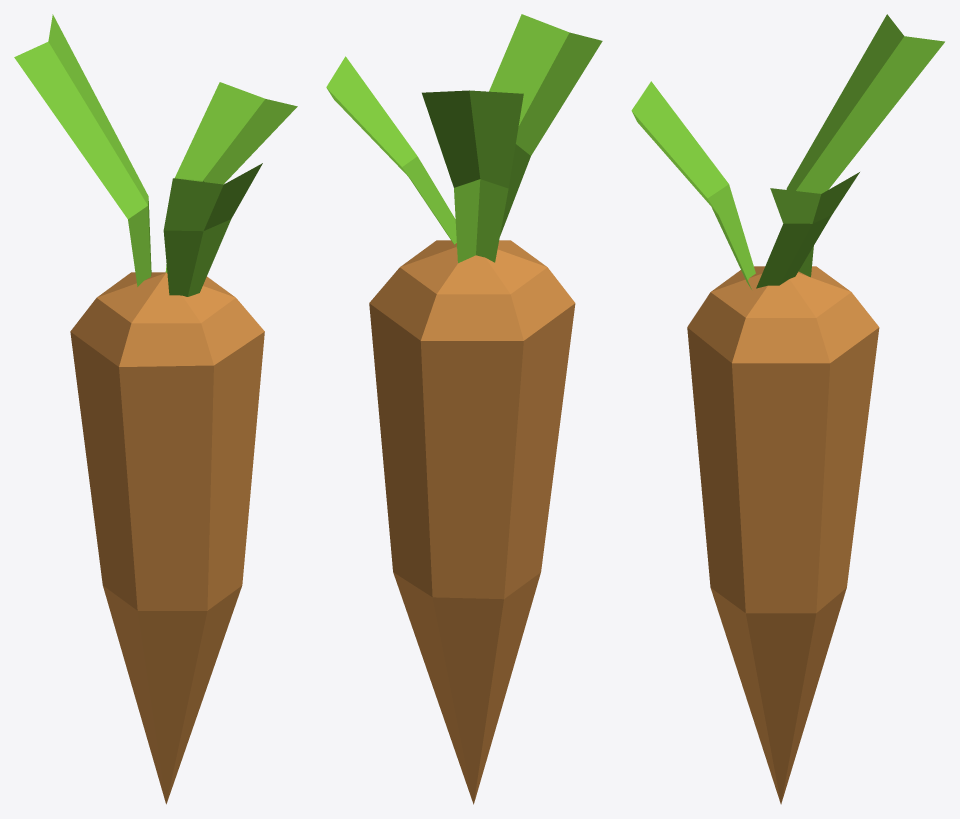
Rendered from Carrot1.fbx.
The picture shows the model from 3 angles, left to right: view 1: azimuth 30°, elevation 25°; view 2: azimuth 150°, elevation 25°; view 3: azimuth 270°, elevation 25°; orthographic projection. The views are drawn at different scales.
Visible parts, largest first — view 1: Cone; view 2: Cone; view 3: Cone.
Part boxes in pixels (x1=…): Cone: x1=14, y1=14, x2=297, y2=804; Cone: x1=326, y1=14, x2=602, y2=804; Cone: x1=631, y1=14, x2=944, y2=804.
Size of the model in its own units: 0.2012 by 0.6289 by 0.2395.
